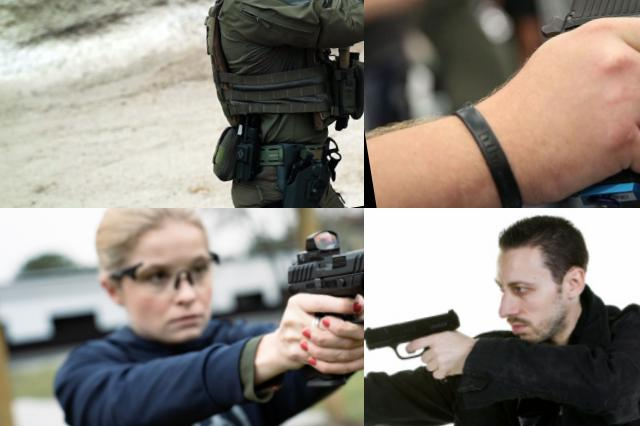handgun: (525, 0, 640, 208), (274, 212, 364, 350), (364, 304, 473, 400), (364, 357, 422, 426)
